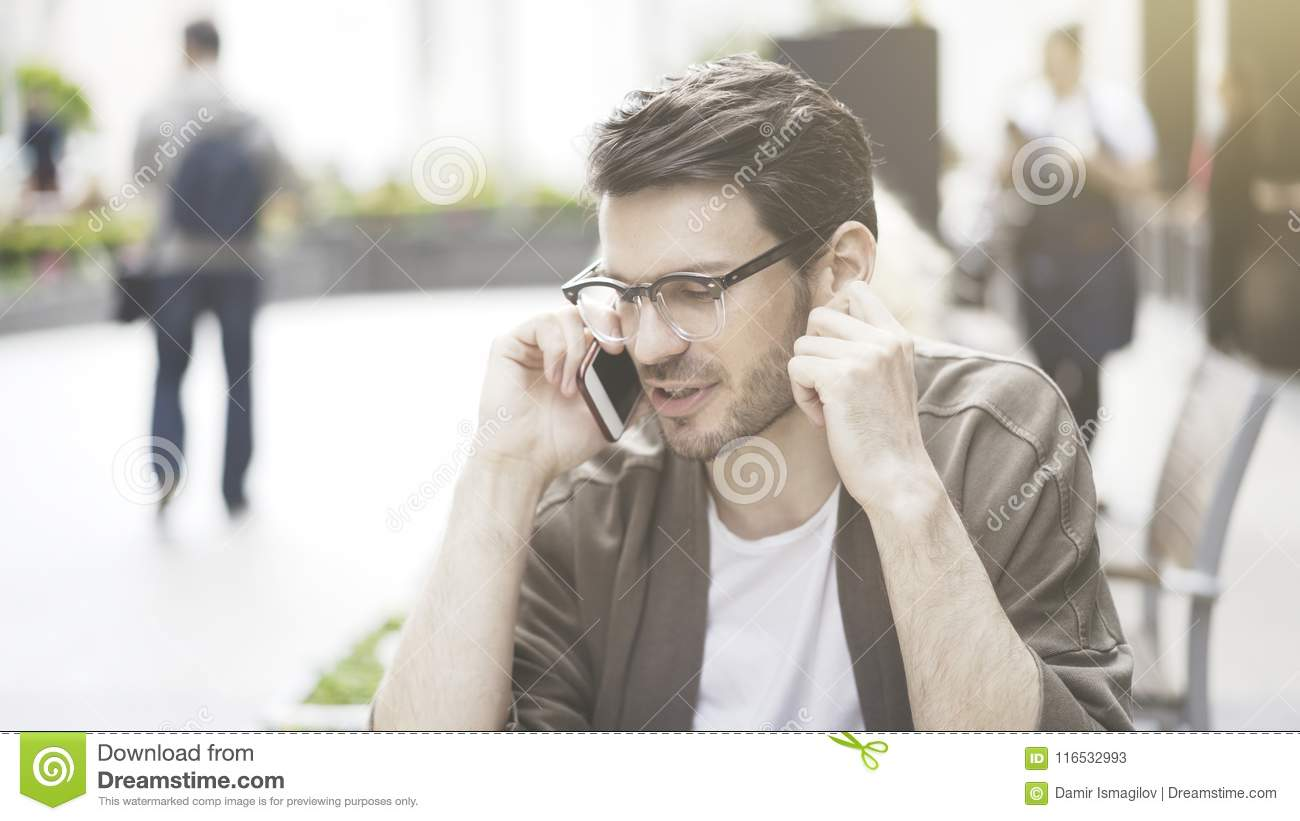phone: (576, 329, 645, 452)
talk: (468, 255, 779, 503)
